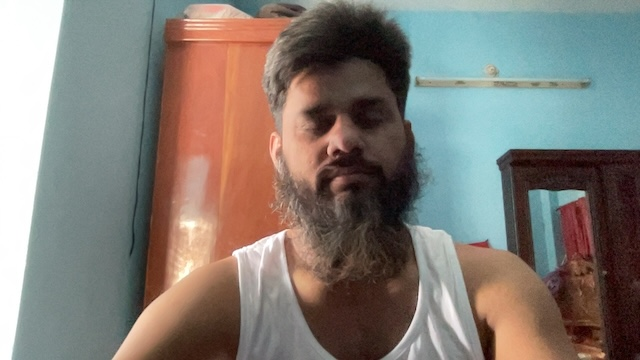Goggles: (247, 11, 422, 265)
